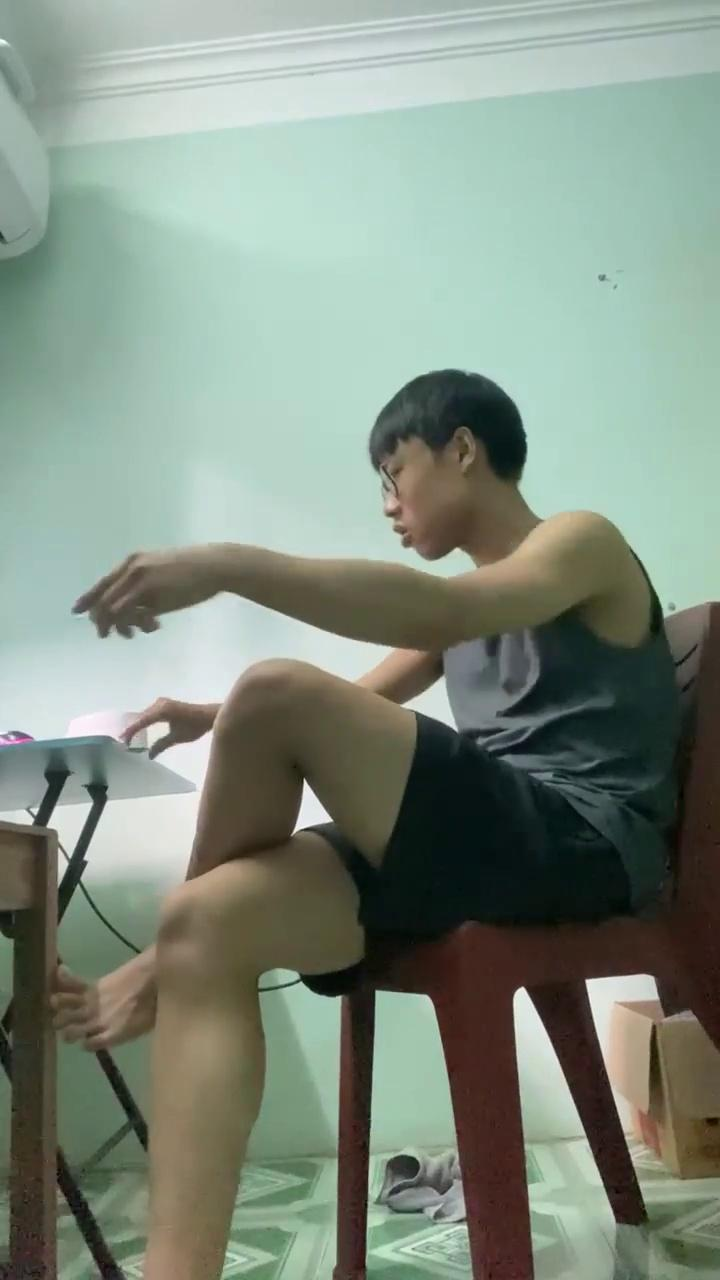BadPosture: (95, 652, 423, 1279)
